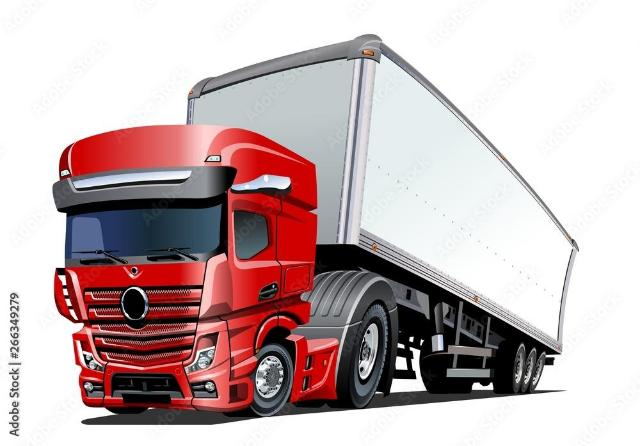truck: (34, 43, 610, 421)
